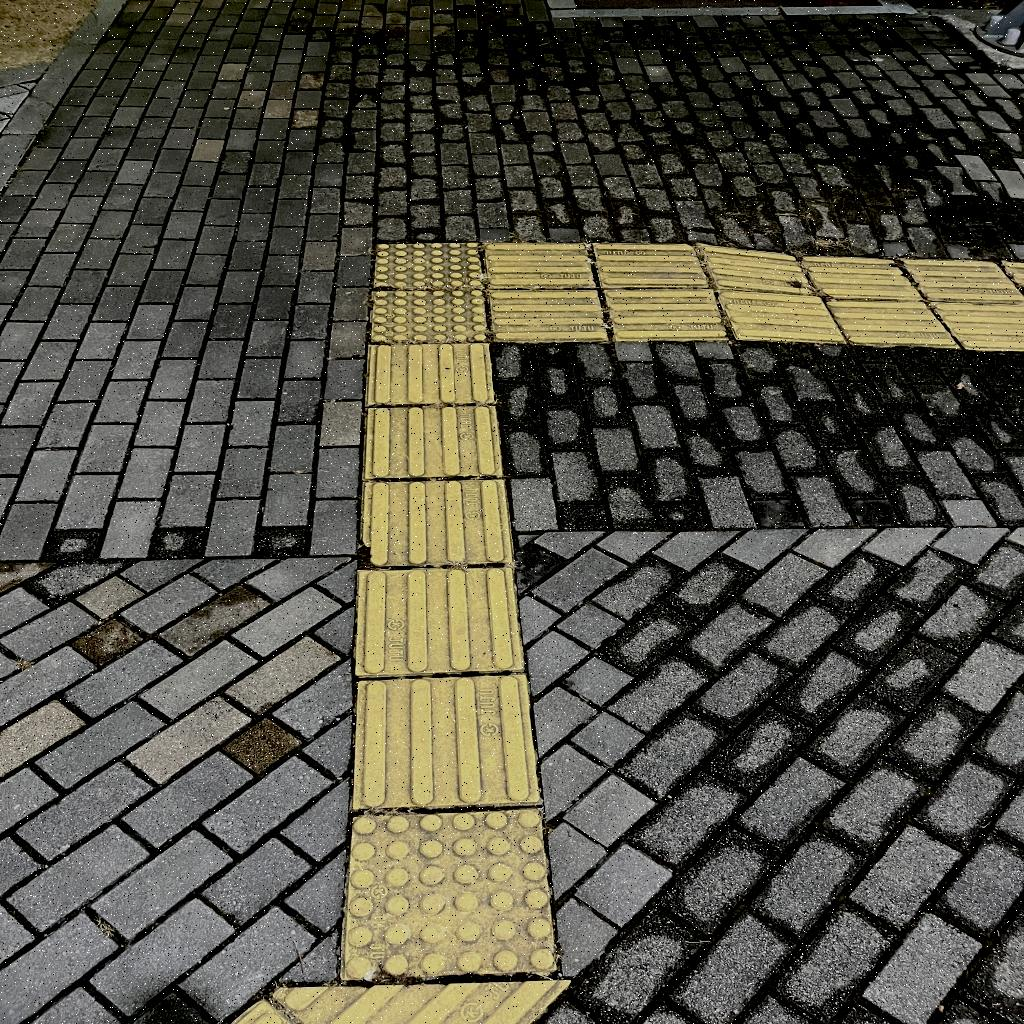Stop block normal: (336, 806, 556, 979), (371, 291, 489, 342)
Straight block normal: (348, 674, 540, 809), (352, 563, 521, 677), (361, 477, 512, 567), (363, 405, 504, 479), (367, 344, 495, 403), (716, 291, 848, 345), (604, 288, 729, 341), (489, 289, 608, 341), (825, 302, 959, 348)
